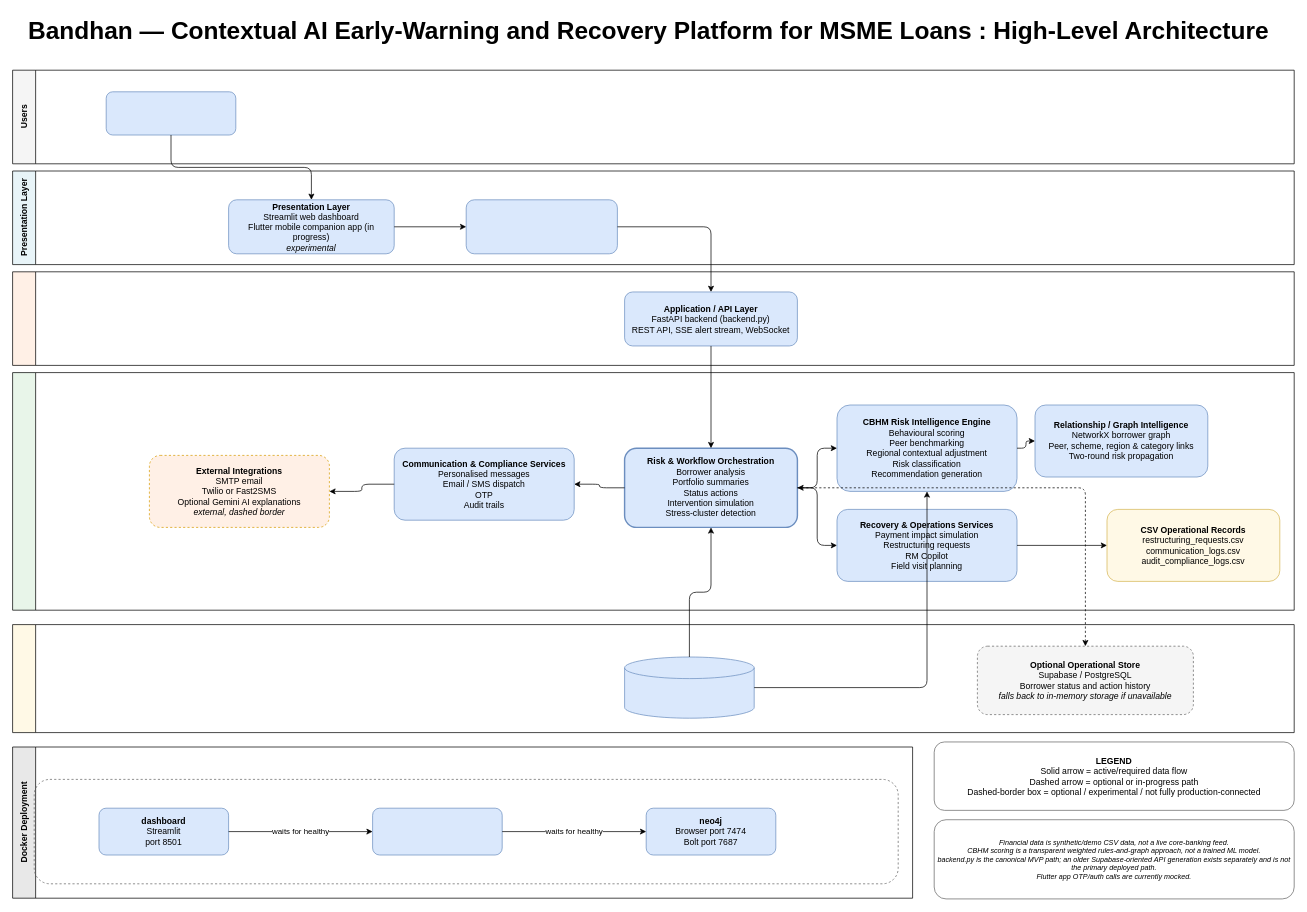
Some shapes in this 1307 by 912 pixel diagram are drawn without their labels. The shapes that lost their labels are listed below. From the top down, each one's box as (x1, y1, x2, y2) in pixels, then its label:
(105, 91, 236, 135): Bank Admin / Recovery Manager Borrower Field Officer
(465, 199, 617, 254): Access & Session Layer Admin login + OTP flow Borrower login Role-based screens
(12, 271, 1294, 365): App/ API Layer
(12, 372, 1294, 610): Orchestration & Intelligence Layer
(12, 624, 1294, 733): Data & External Services
(624, 656, 754, 718): MVP Data Layer borrowers.csv loan_transactions.csv regional_context.csv
(372, 807, 502, 855): backend FastAPI port 8000
(33, 779, 898, 884): Internal Docker Bridge Network
